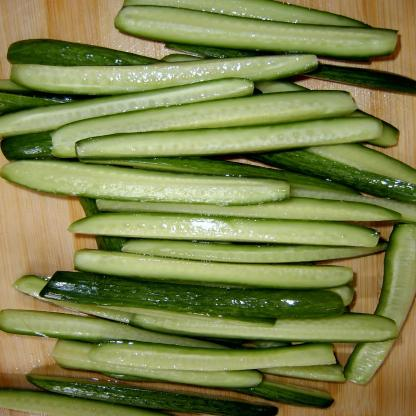--: (52, 93, 402, 158), (36, 271, 361, 324), (105, 3, 401, 59), (0, 156, 316, 206), (26, 367, 320, 416), (58, 208, 394, 250), (56, 247, 356, 291), (7, 53, 348, 89), (73, 338, 339, 374)
